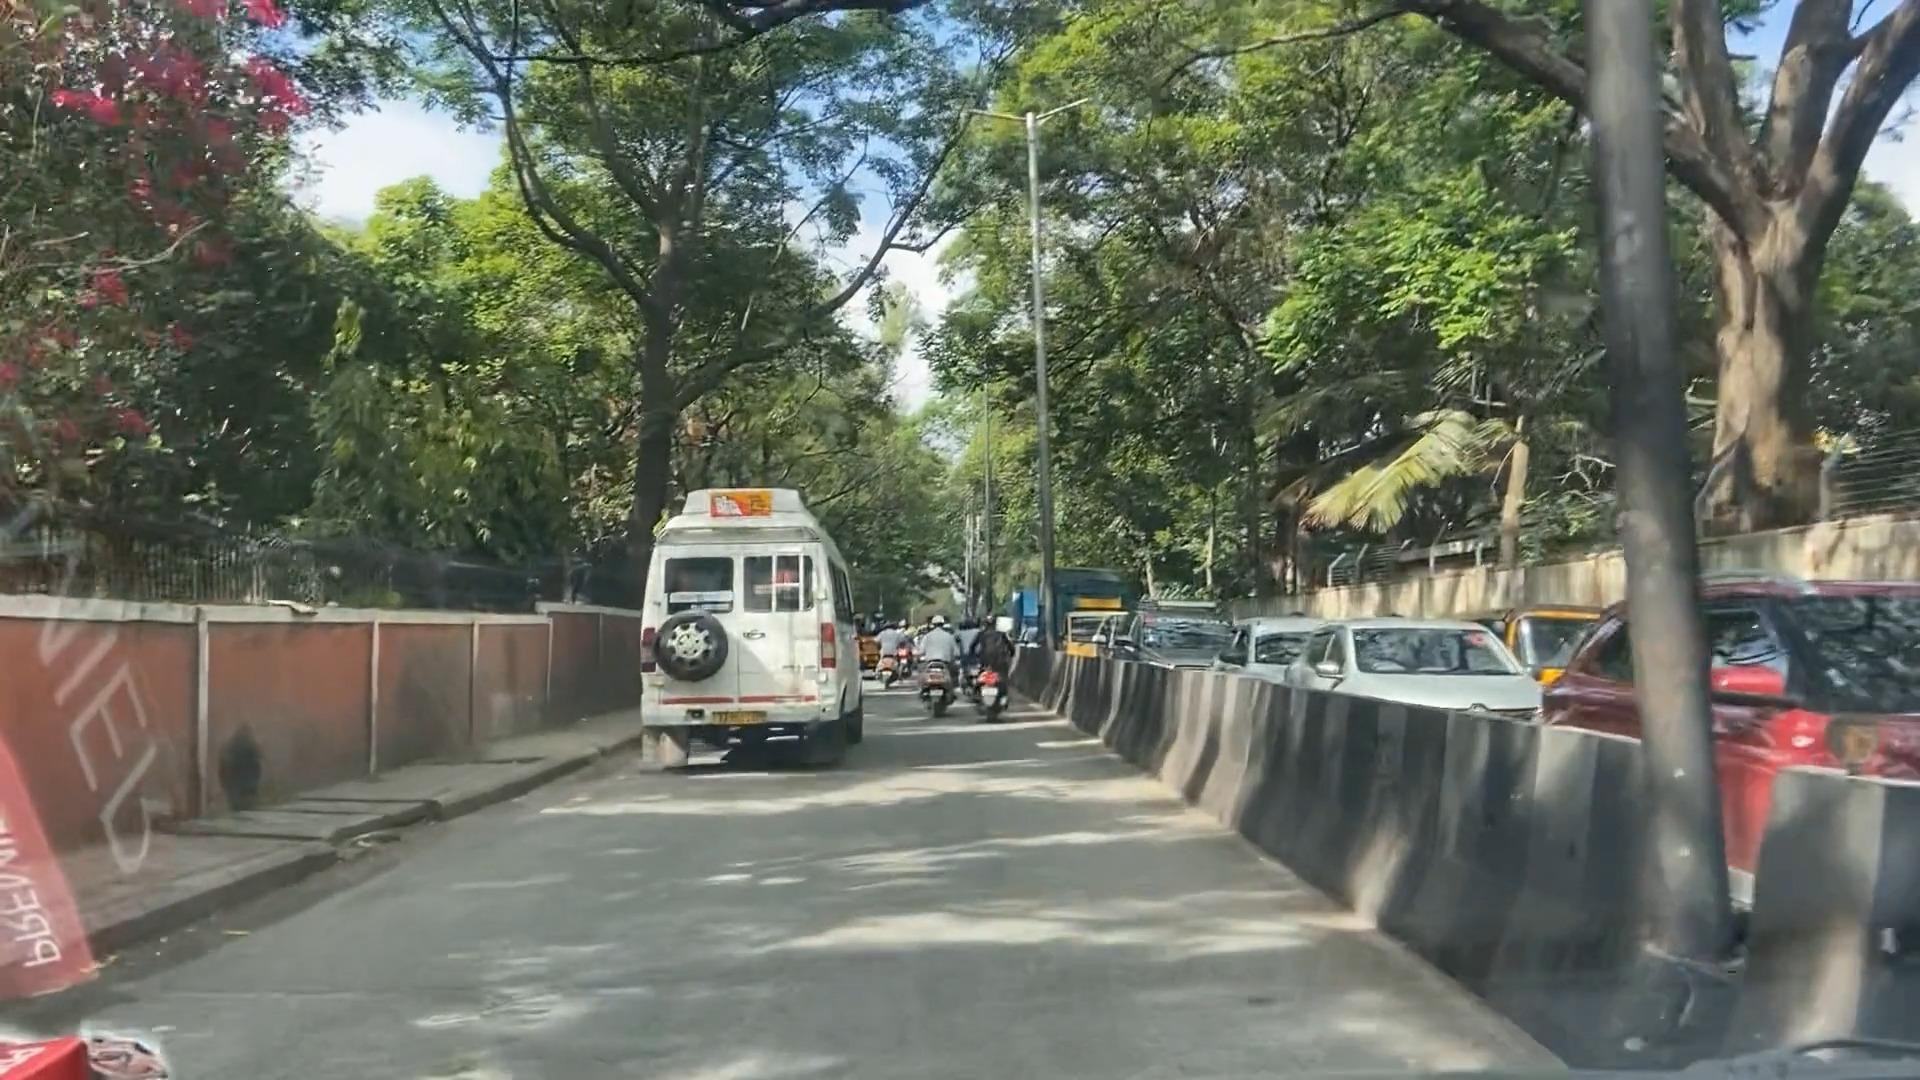HMV: (630, 487, 835, 767)
LMV: (940, 589, 1017, 724)
